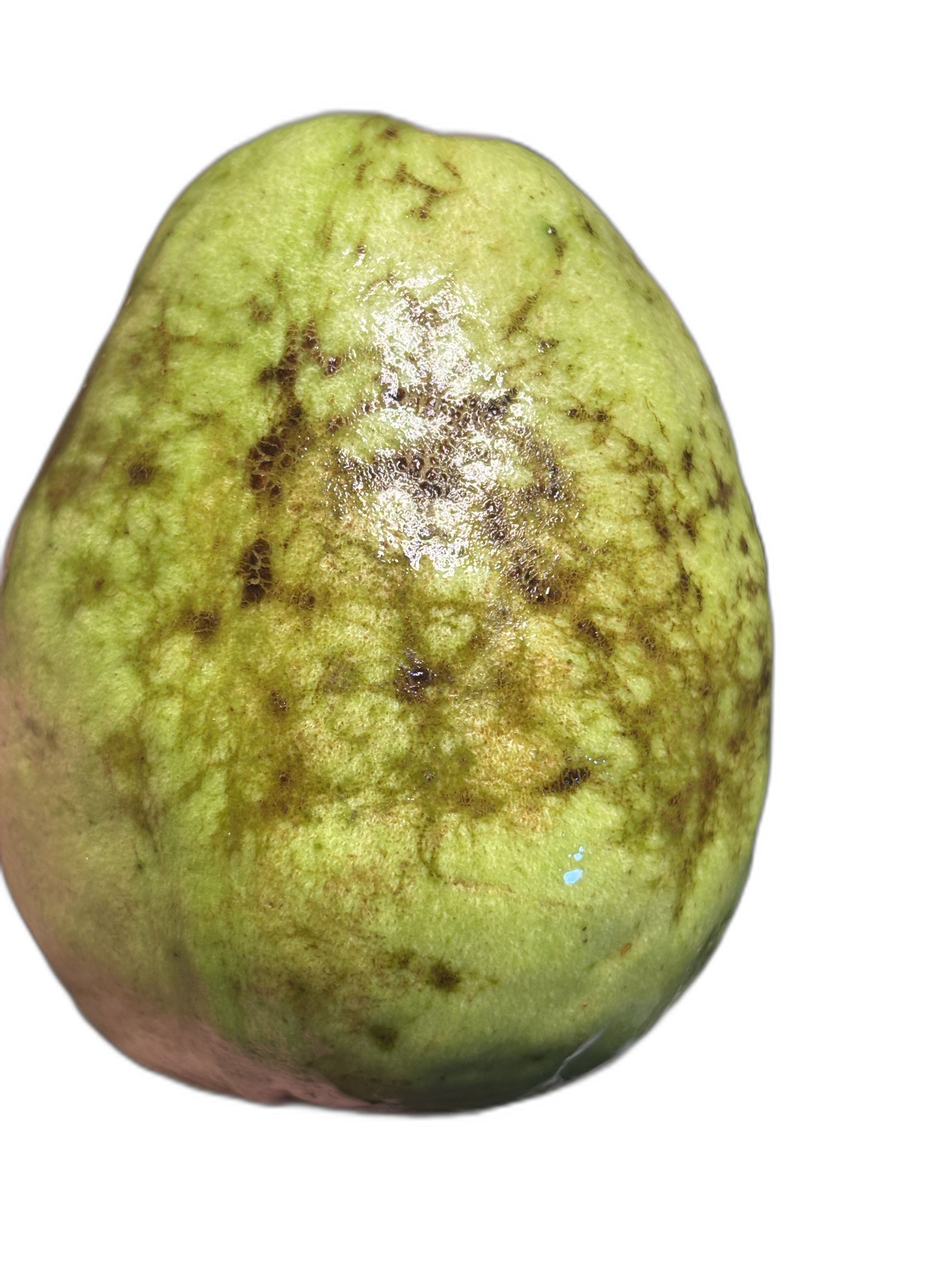guava: (135, 0, 758, 1128)
